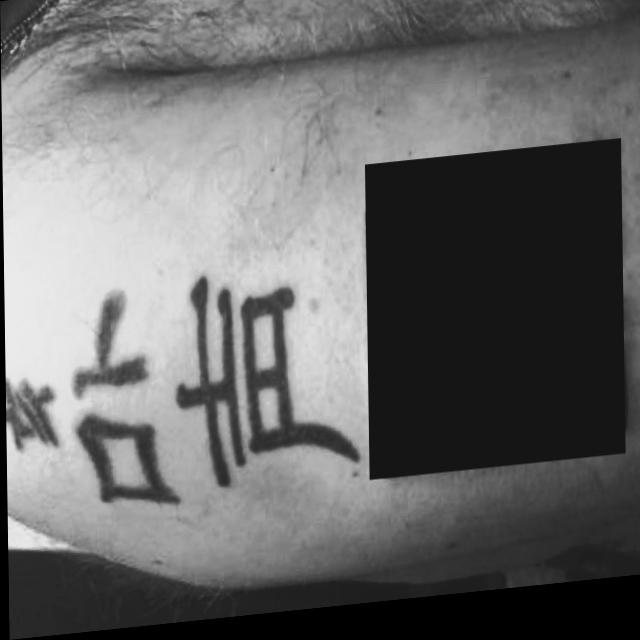qr_code: (364, 152, 624, 486)
